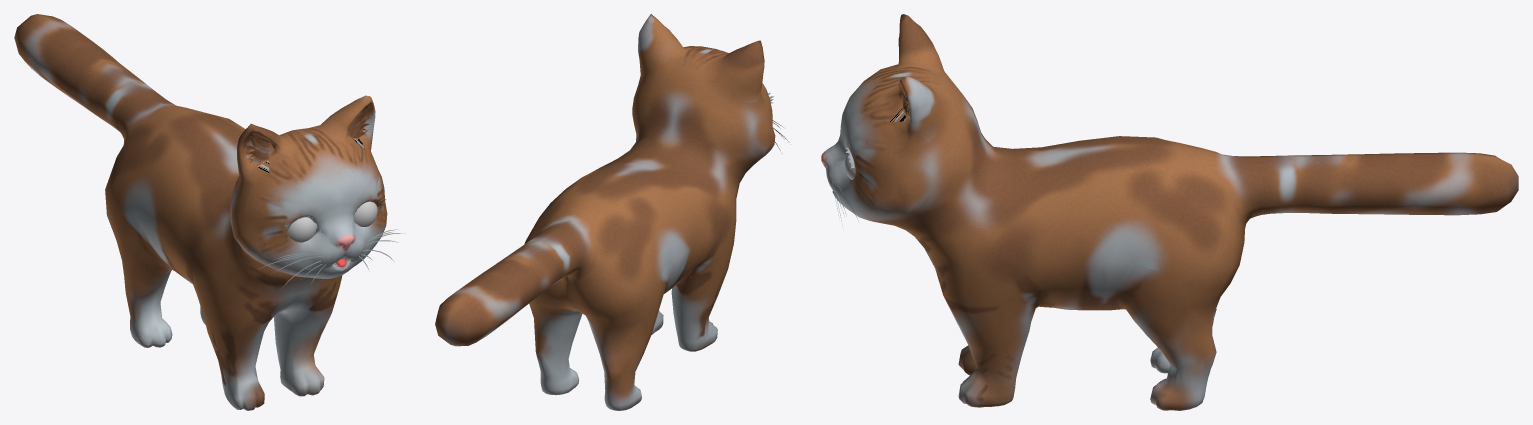
File: Cartoon Cat.fbx
The picture shows the model from 3 angles, left to right: view 1: azimuth 30°, elevation 25°; view 2: azimuth 150°, elevation 25°; view 3: azimuth 270°, elevation 25°; orthographic projection. The views are drawn at different scales.
Parts seen in each view (by area): view 1: Object_13, Object_11; view 2: Object_13; view 3: Object_13.
Boxes of the visible parts, x1,y1,x2,y2 form: Object_13: [14, 14, 405, 410]; Object_11: [288, 201, 377, 242]; Object_13: [435, 14, 789, 410]; Object_13: [821, 14, 1518, 410].
Bounding box in the file's own units: 0.2058 × 0.4072 × 0.749.
